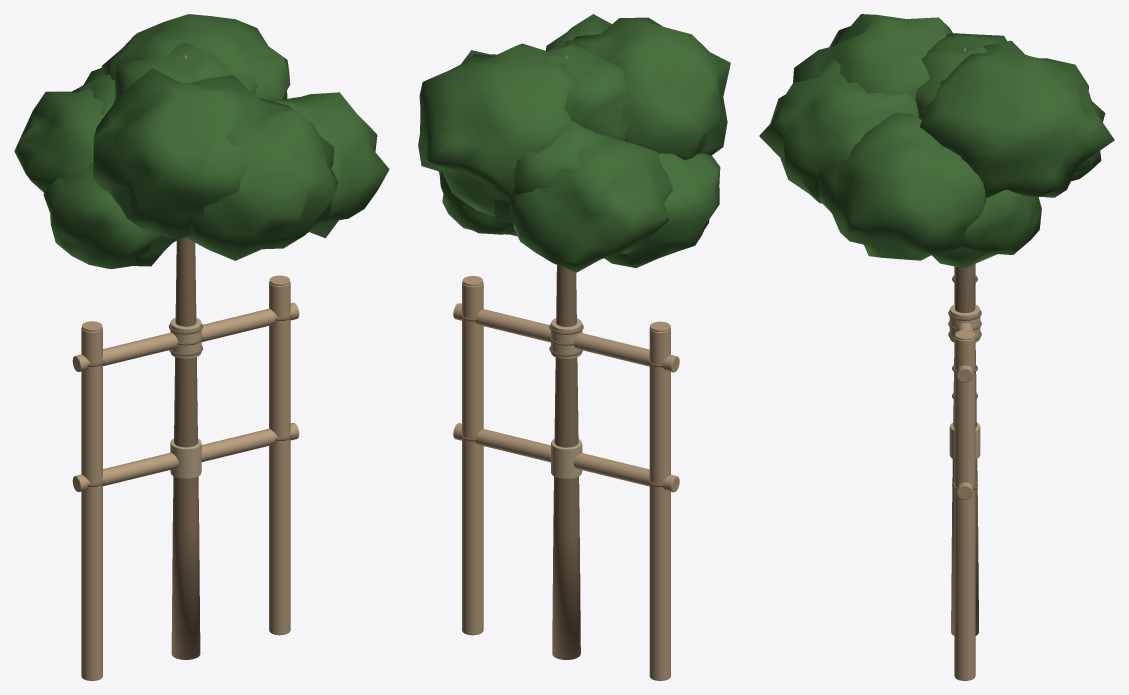
Rendered from city-tree-support-frame.glb.
3 views of the same model, side by side, from view 1: azimuth 30°, elevation 25°; view 2: azimuth 150°, elevation 25°; view 3: azimuth 270°, elevation 25° (orthographic). The views are drawn at different scales.
Visible parts, largest first — view 1: Assembly | Young tree canopy, Assembly | Peeled cedar support pole, Assembly | Young tree bark, Assembly | Burlap trunk wrap; view 2: Assembly | Young tree canopy, Assembly | Peeled cedar support pole, Assembly | Young tree bark, Assembly | Burlap trunk wrap, Assembly | Palm fibre binding cord; view 3: Assembly | Young tree canopy, Assembly | Peeled cedar support pole, Assembly | Young tree bark, Assembly | Burlap trunk wrap.
Boxes of the visible parts, left/top/right/bottom form: Assembly | Young tree canopy: left=14, top=14, right=389, bottom=269; Assembly | Peeled cedar support pole: left=72, top=275, right=299, bottom=680; Assembly | Young tree bark: left=171, top=54, right=200, bottom=659; Assembly | Burlap trunk wrap: left=170, top=318, right=201, bottom=478; Assembly | Young tree canopy: left=418, top=14, right=730, bottom=272; Assembly | Peeled cedar support pole: left=453, top=276, right=679, bottom=680; Assembly | Young tree bark: left=552, top=55, right=580, bottom=659; Assembly | Burlap trunk wrap: left=551, top=318, right=582, bottom=479; Assembly | Palm fibre binding cord: left=459, top=315, right=664, bottom=486; Assembly | Young tree canopy: left=759, top=14, right=1114, bottom=268; Assembly | Peeled cedar support pole: left=954, top=264, right=975, bottom=680; Assembly | Young tree bark: left=951, top=47, right=978, bottom=635; Assembly | Burlap trunk wrap: left=949, top=304, right=980, bottom=459.
Bounding box in the file's own units: 1.42 × 2.78 × 1.52.
